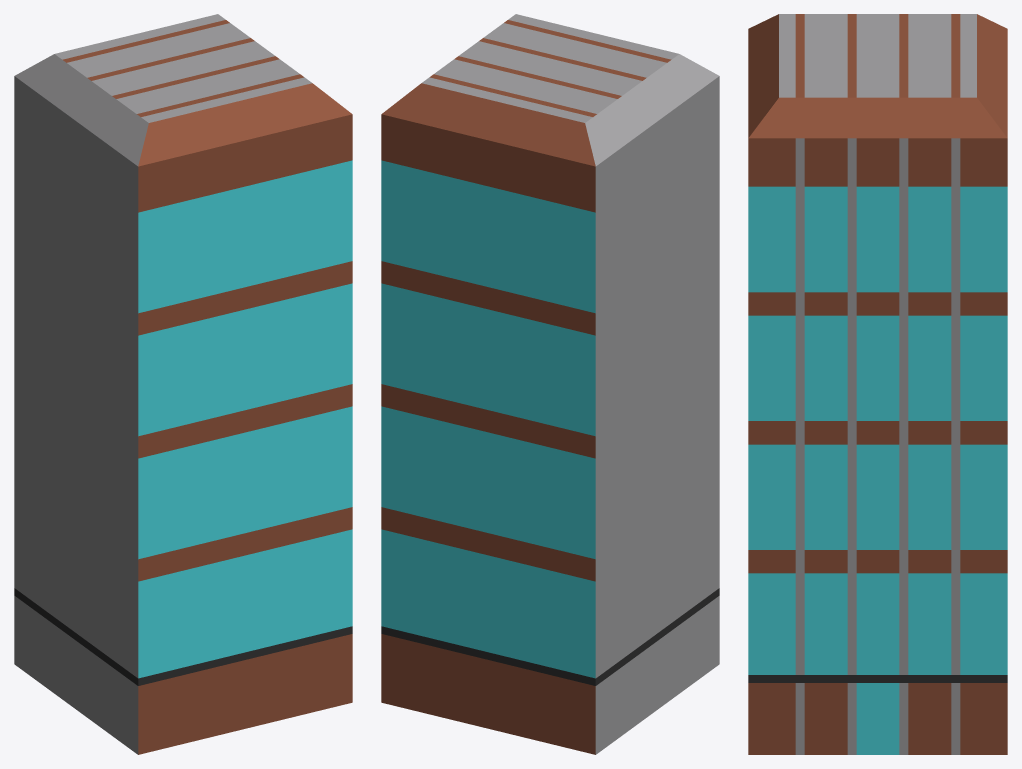
The model's file is Edificio vidrio marron.fbx.
3 views of the same model, side by side, from view 1: azimuth 30°, elevation 25°; view 2: azimuth 150°, elevation 25°; view 3: azimuth 270°, elevation 25° (orthographic). The views are drawn at different scales.
Visible parts, largest first — view 1: Cube.026; view 2: Cube.026; view 3: Cube.026.
Part boxes in pixels (bbox=[...]): Cube.026: bbox=[14, 14, 352, 754]; Cube.026: bbox=[381, 14, 719, 754]; Cube.026: bbox=[748, 14, 1007, 754].
Size of the model in its own units: 362 by 991 by 362.
